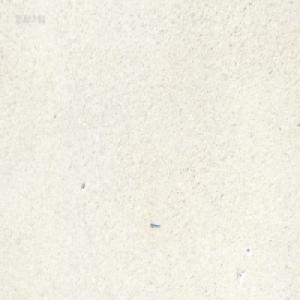Nail: (150, 221, 160, 229)
